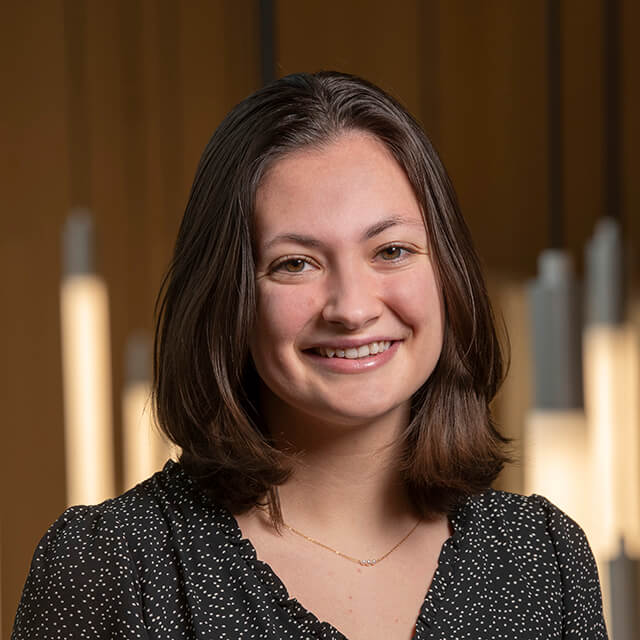human: (210, 118, 456, 421)
